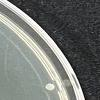white: (43, 82, 57, 92)
